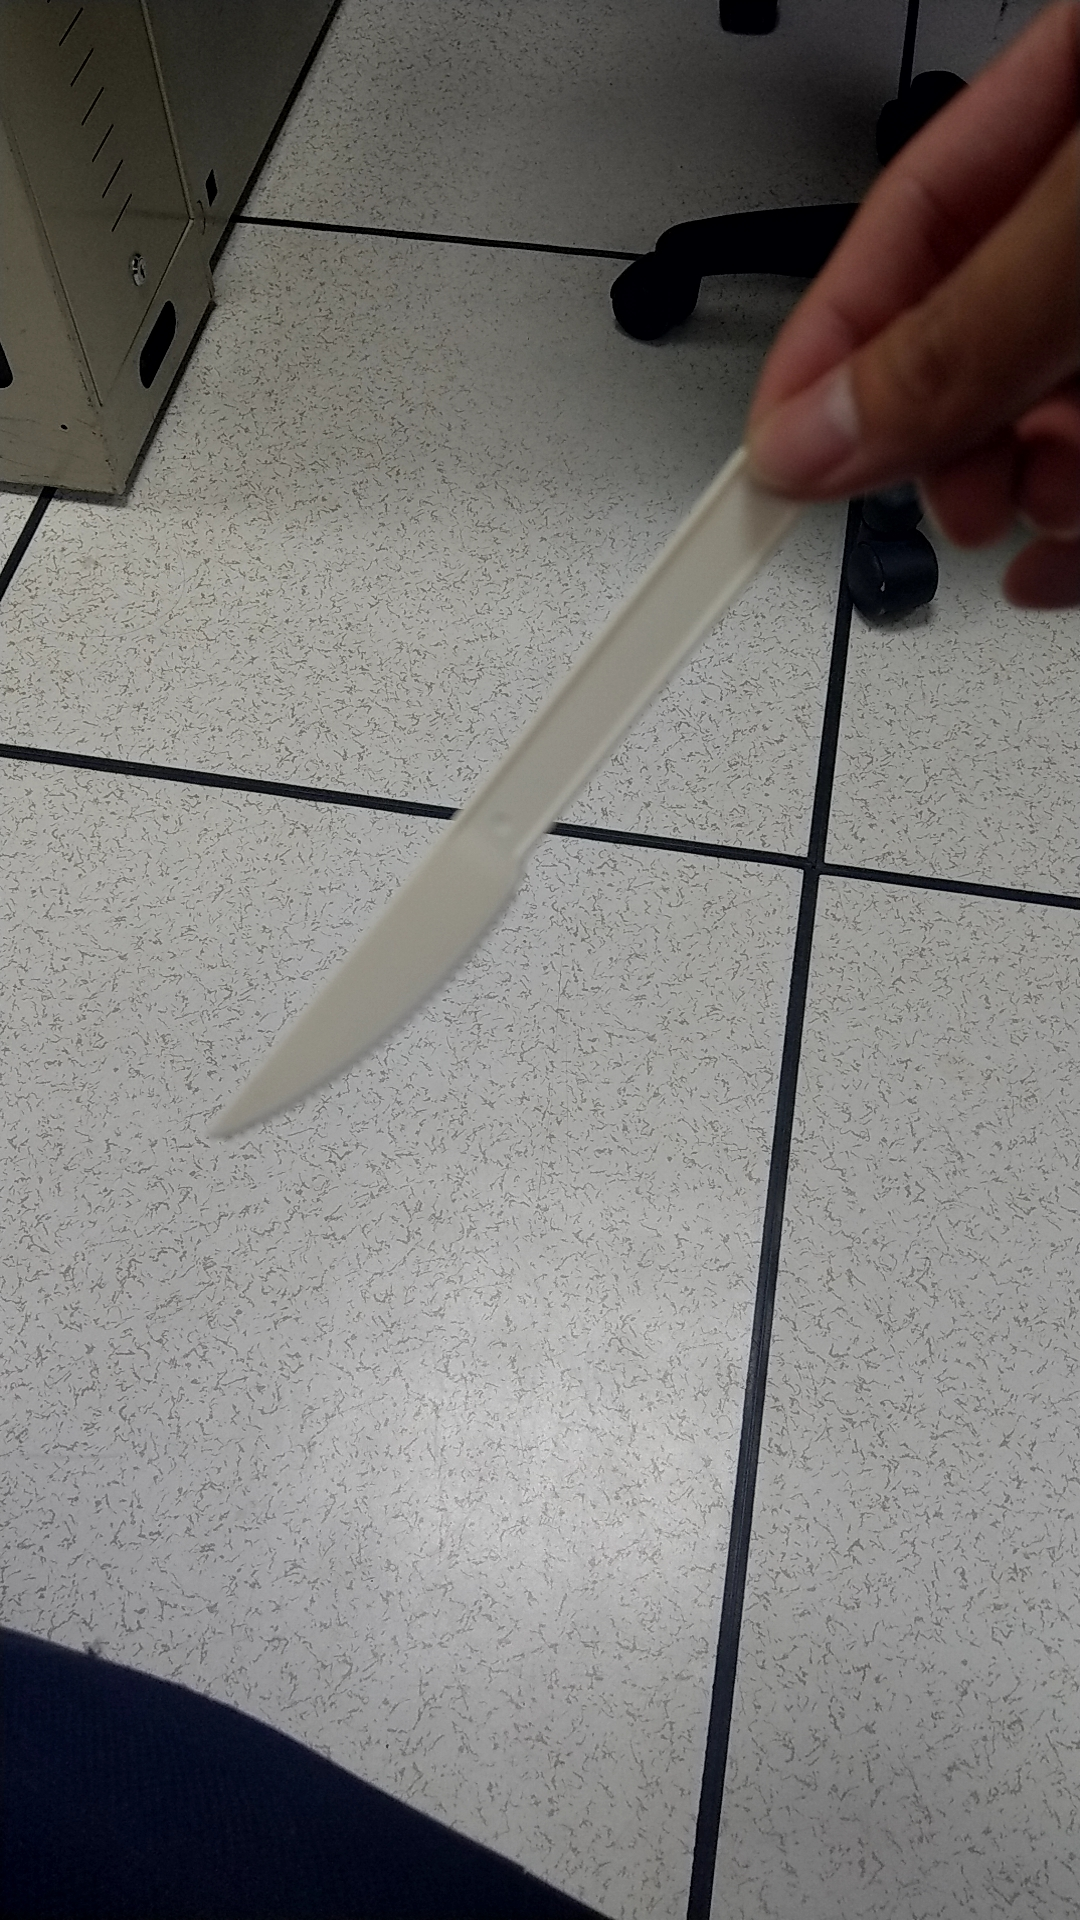knife: (196, 464, 783, 1143)
